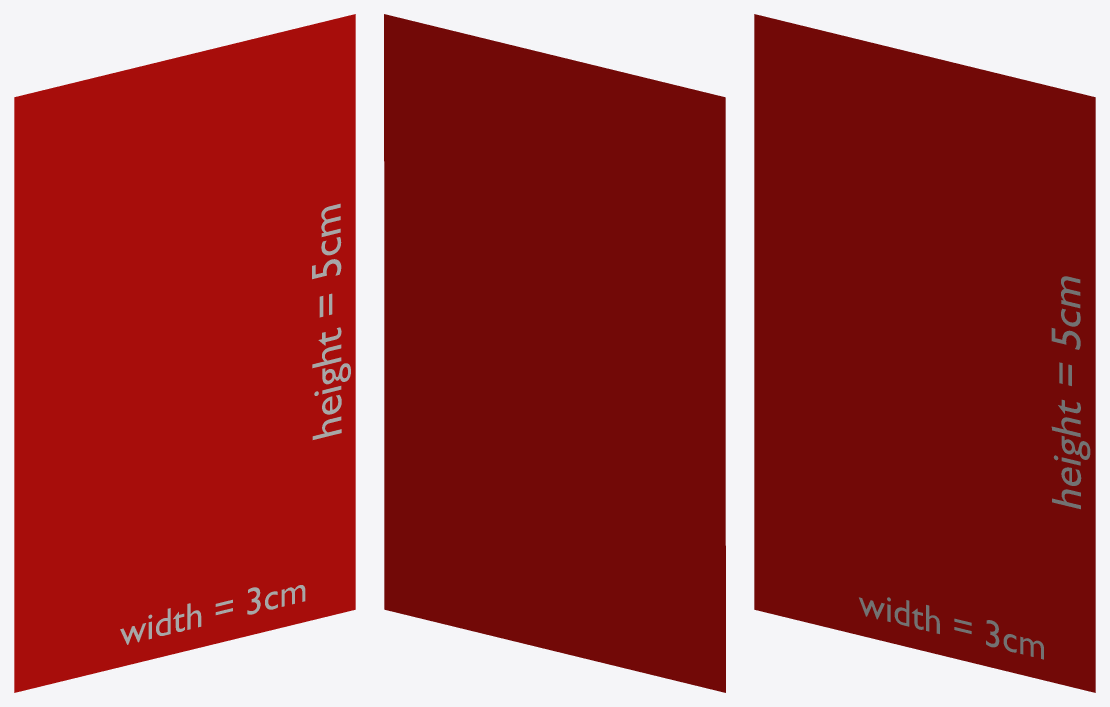
The model's file is rect3x5.glb.
The picture shows the model from 3 angles, left to right: view 1: azimuth 30°, elevation 25°; view 2: azimuth 150°, elevation 25°; view 3: azimuth 330°, elevation 25°; orthographic projection.
Visible parts, largest first — view 1: Plane, height, width; view 2: Plane; view 3: Plane, height, width.
Part boxes in pixels (x1,y1,x2,y2): Plane: (14, 14, 355, 692); height: (312, 203, 350, 439); width: (120, 585, 305, 644); Plane: (384, 14, 725, 692); Plane: (754, 14, 1095, 692); height: (1051, 276, 1090, 509); width: (859, 597, 1043, 659).
Size of the model in its own units: 0.3 by 0.5 by 0.00116.
